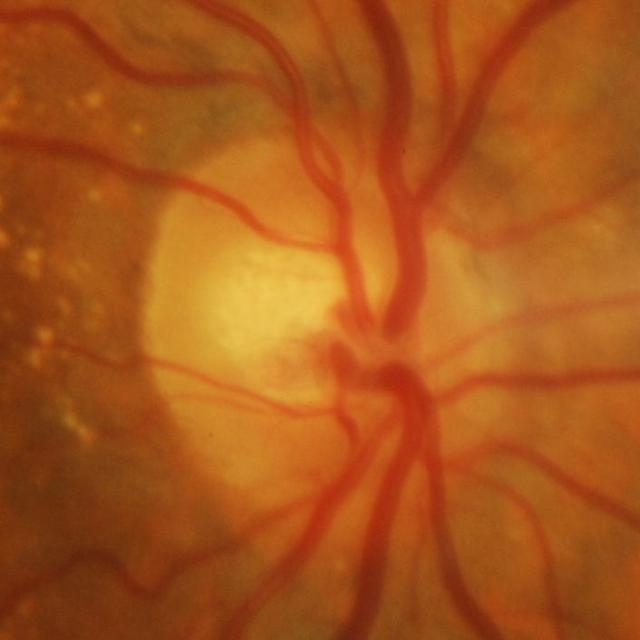OC: (208, 223, 380, 409)
OD: (146, 134, 515, 514)
